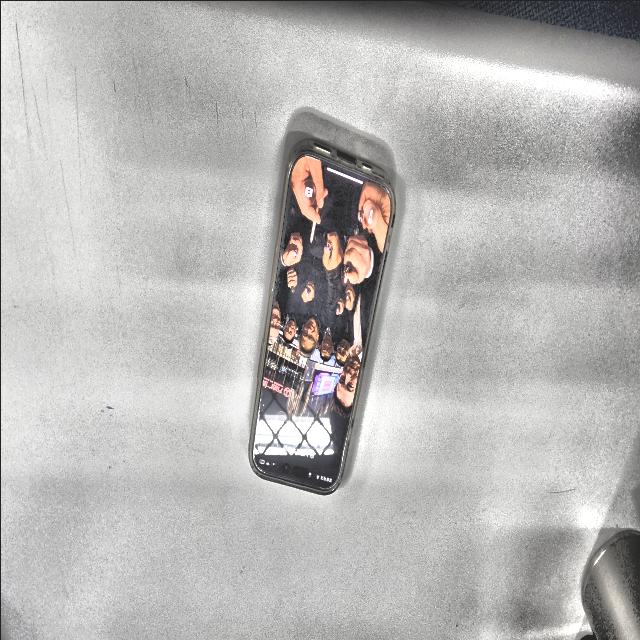PHONE: (248, 139, 396, 493)
